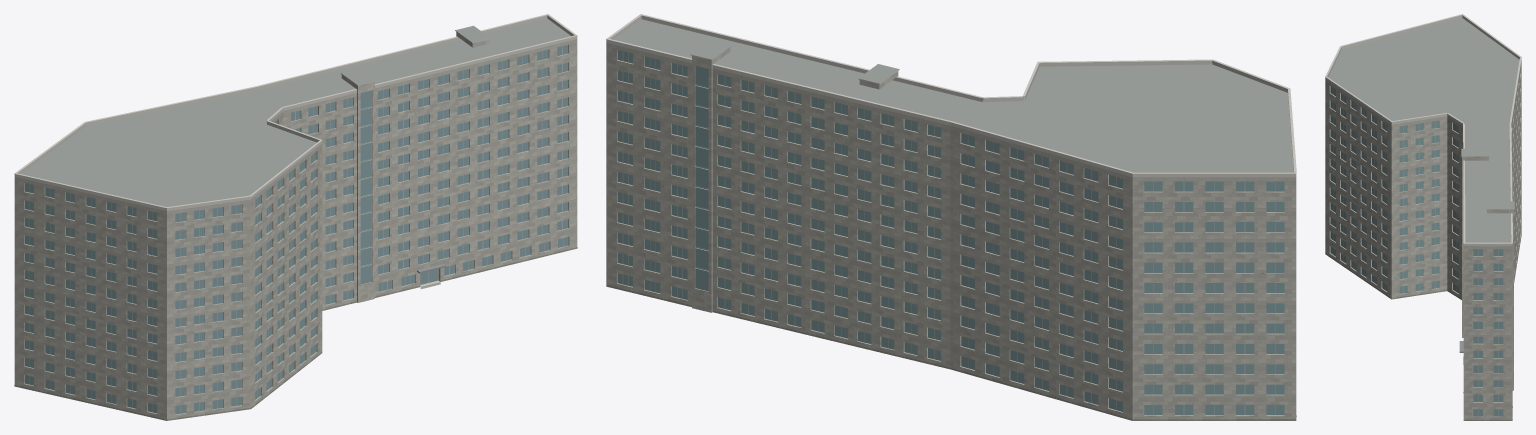
3 views of the same model, side by side, from view 1: azimuth 30°, elevation 25°; view 2: azimuth 150°, elevation 25°; view 3: azimuth 270°, elevation 25° (orthographic). The views are drawn at different scales.
Visible parts, largest first — view 1: w3__wall, w3__glass, w3__roof, w3__parapet, w3__frame, w3__trim, w3__base; view 2: w3__wall, w3__glass, w3__roof, w3__parapet, w3__frame, w3__trim, w3__base; view 3: w3__wall, w3__roof, w3__glass, w3__trim, w3__parapet, w3__frame, w3__base.
Part boxes in pixels (x1=…): w3__wall: x1=14, y1=32, x2=577, y2=420; w3__glass: x1=25, y1=45, x2=568, y2=414; w3__roof: x1=21, y1=18, x2=570, y2=206; w3__parapet: x1=14, y1=15, x2=577, y2=211; w3__frame: x1=29, y1=46, x2=563, y2=413; w3__trim: x1=14, y1=14, x2=577, y2=208; w3__base: x1=14, y1=247, x2=577, y2=420; w3__wall: x1=606, y1=43, x2=1296, y2=420; w3__glass: x1=617, y1=50, x2=1284, y2=414; w3__roof: x1=613, y1=19, x2=1293, y2=172; w3__parapet: x1=606, y1=15, x2=1296, y2=177; w3__frame: x1=622, y1=51, x2=1275, y2=414; w3__trim: x1=606, y1=14, x2=1296, y2=174; w3__base: x1=606, y1=285, x2=1296, y2=420; w3__wall: x1=1325, y1=60, x2=1521, y2=419; w3__roof: x1=1328, y1=18, x2=1519, y2=242; w3__glass: x1=1330, y1=86, x2=1503, y2=416; w3__trim: x1=1325, y1=14, x2=1521, y2=243; w3__parapet: x1=1325, y1=15, x2=1519, y2=246; w3__frame: x1=1333, y1=88, x2=1498, y2=416; w3__base: x1=1325, y1=235, x2=1521, y2=420.
Bounding box in the file's own units: 107 × 39.8 × 38.58.
Materials: 10 (2 with a texture image).
